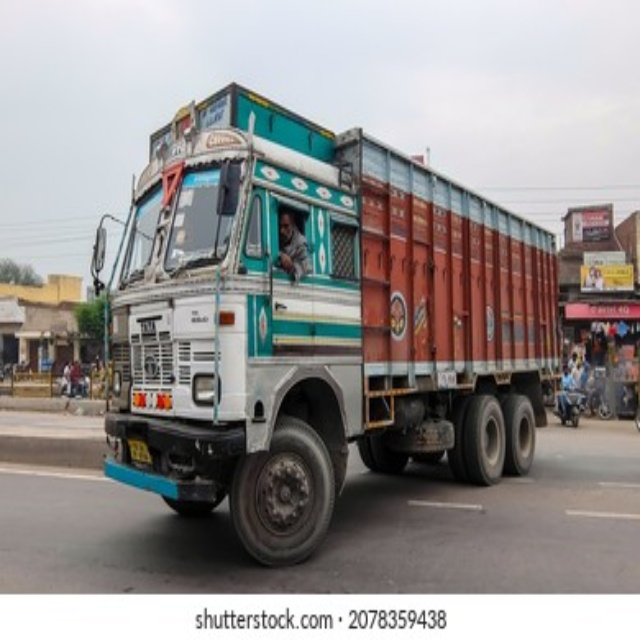Motorcycle: (558, 382, 584, 427)
Truck: (90, 82, 561, 569)
